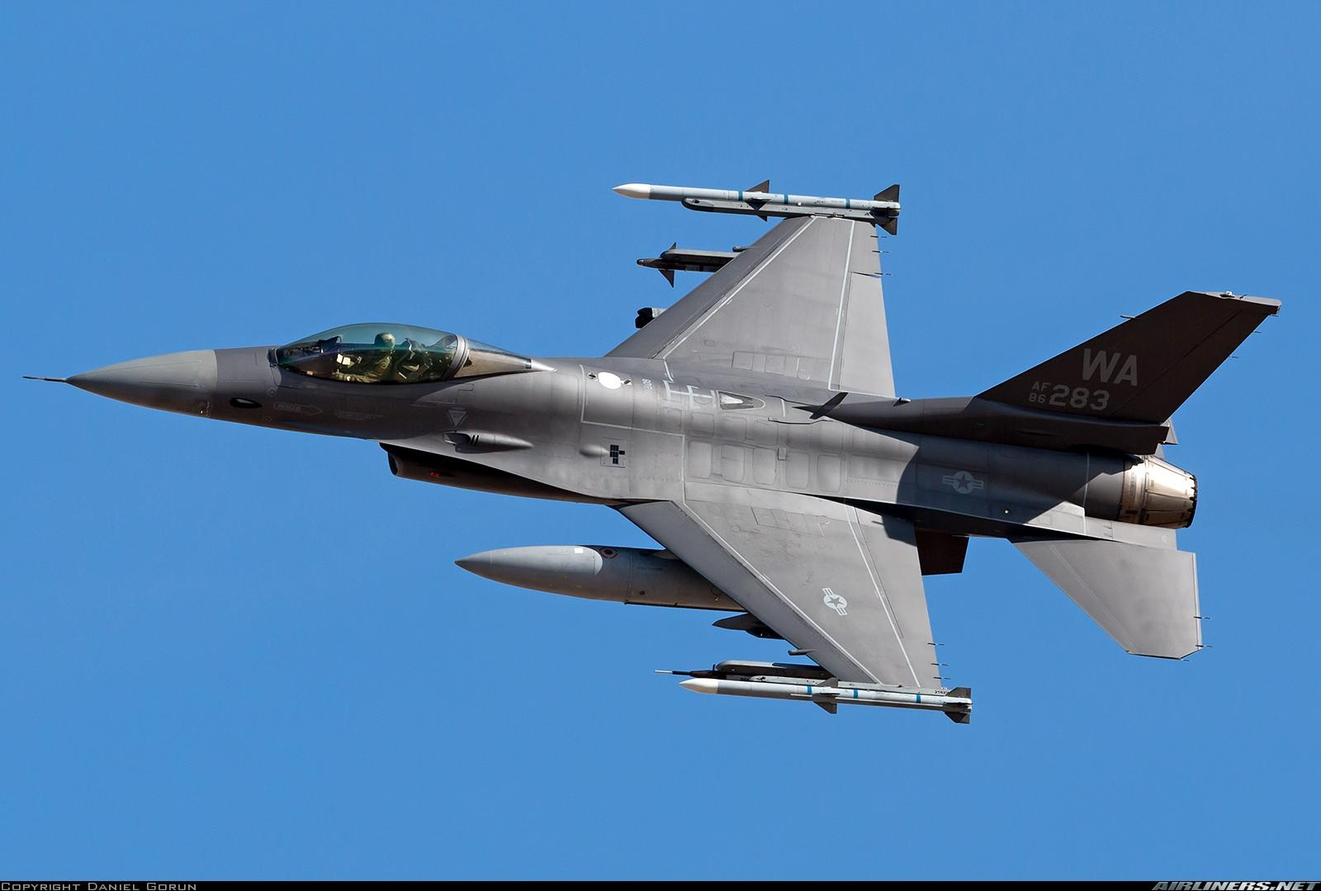aircraft: (45, 185, 1311, 719), (612, 176, 903, 238)
